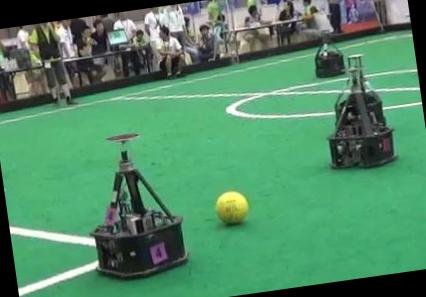ball: (215, 190, 248, 223)
person: (35, 22, 74, 103)
robot: (91, 134, 187, 278), (328, 55, 395, 166), (314, 30, 344, 77)
